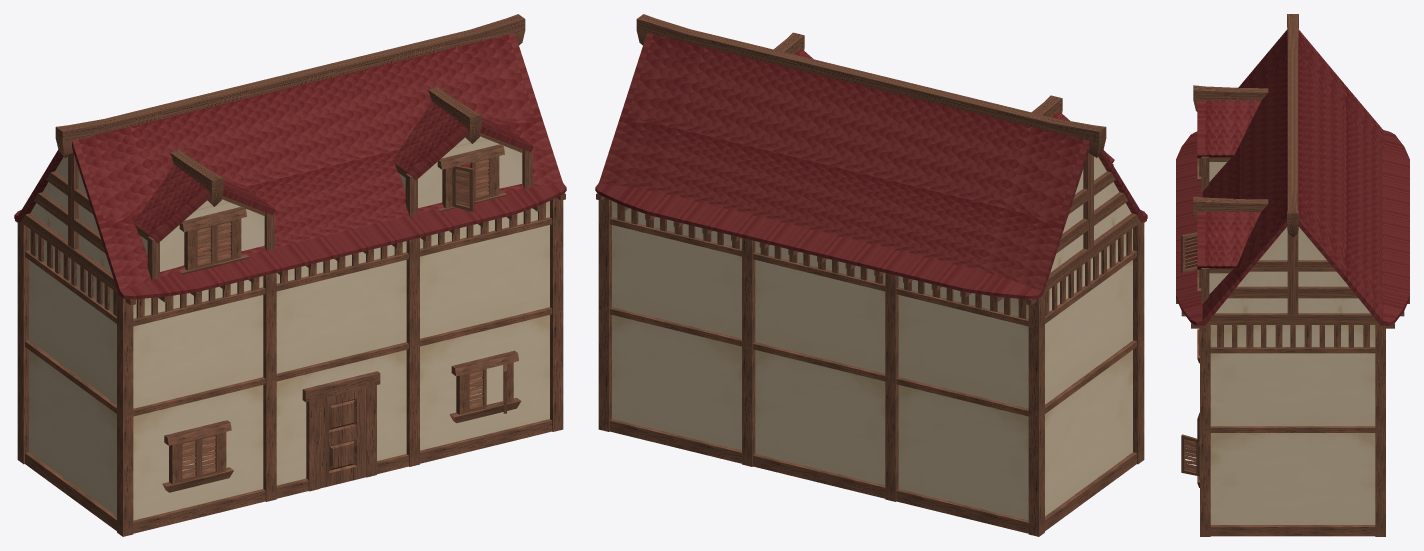
File: House6_FBX.fbx
3 renders of one model, left to right at view 1: azimuth 30°, elevation 25°; view 2: azimuth 150°, elevation 25°; view 3: azimuth 270°, elevation 25°, orthographic. The views are drawn at different scales.
Visible parts, largest first — view 1: House6; view 2: House6; view 3: House6.
Boxes of the visible parts, x1,y1,x2,y2 form: House6: (14, 14, 566, 536); House6: (595, 14, 1147, 536); House6: (1176, 14, 1409, 536).
Bounding box in the file's own units: 1614 × 1240 × 800.
